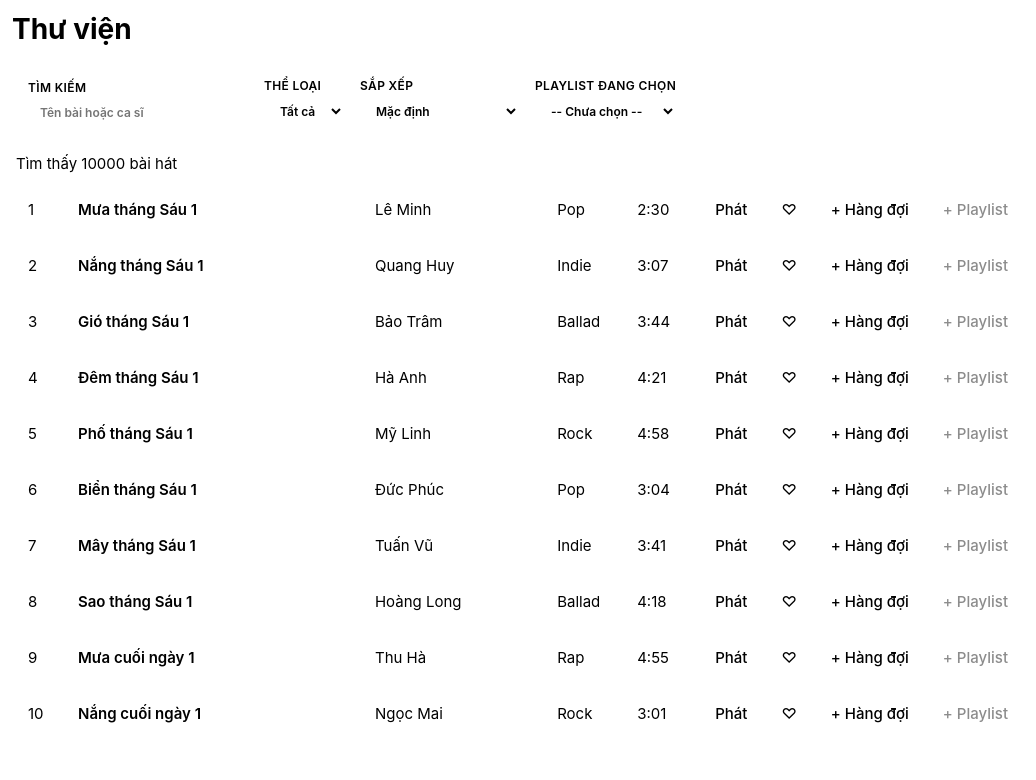
Test: LibraryPage › sắp xếp Tên A-Z thì dòng đầu là "Biển bình yên 1"
Select "Tên A-Z" in the dropdown labelled "Sắp xếp" at (440, 112), box 360,97 -> 519,126
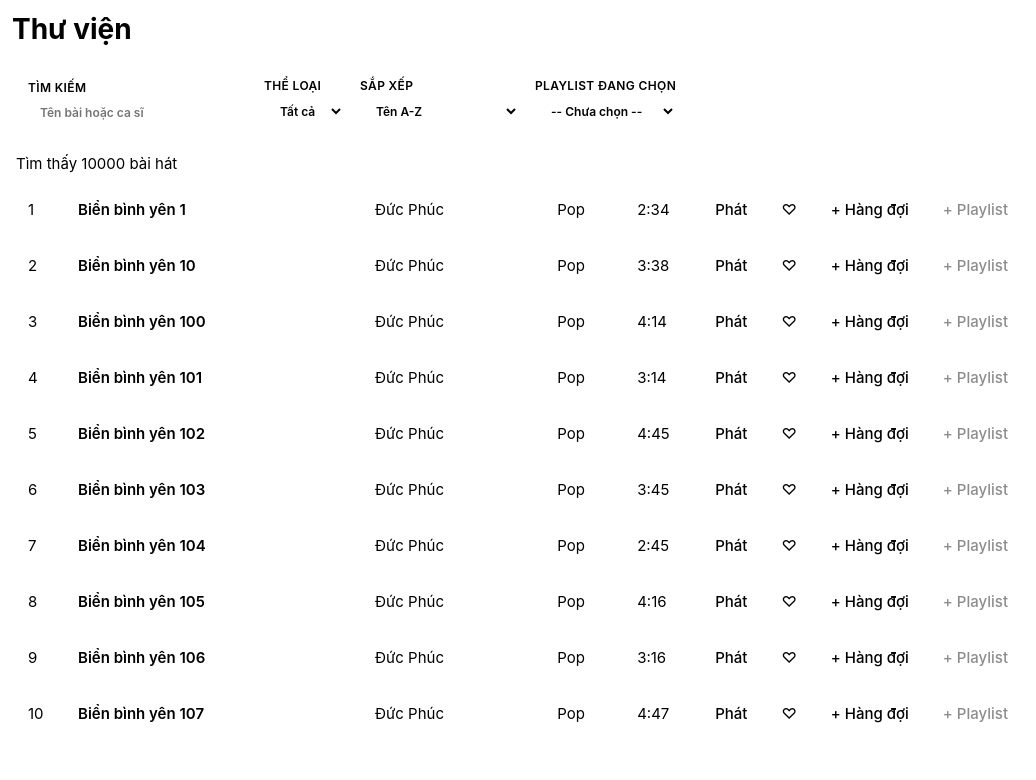
Now the text "Biển bình yên 1" is shown, box 78,200 -> 186,218
